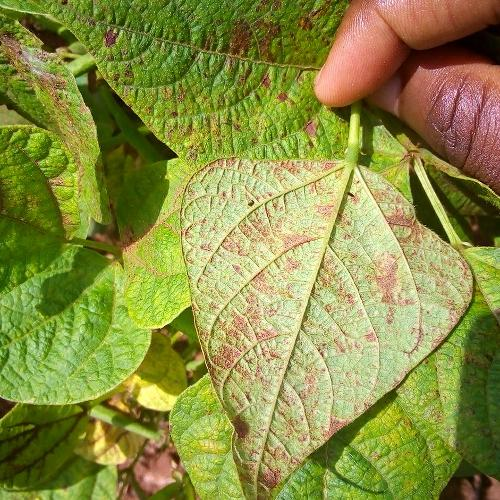hawar: (205, 189, 421, 464), (200, 8, 312, 79)
